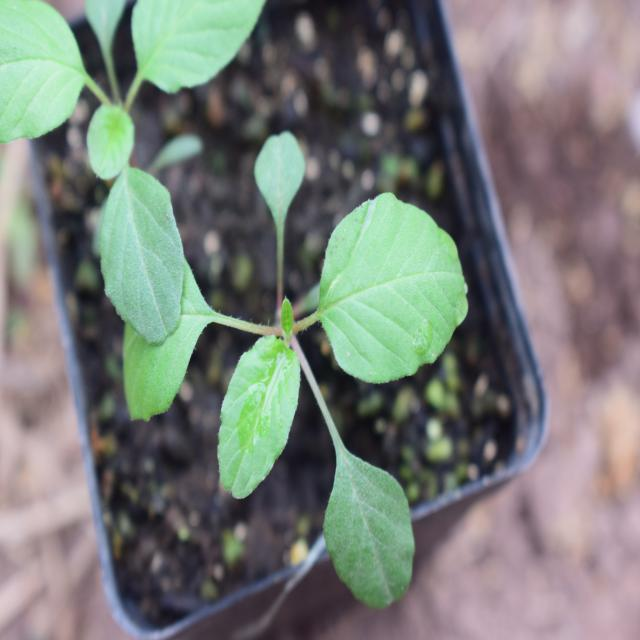pigweed: (68, 128, 456, 590)
